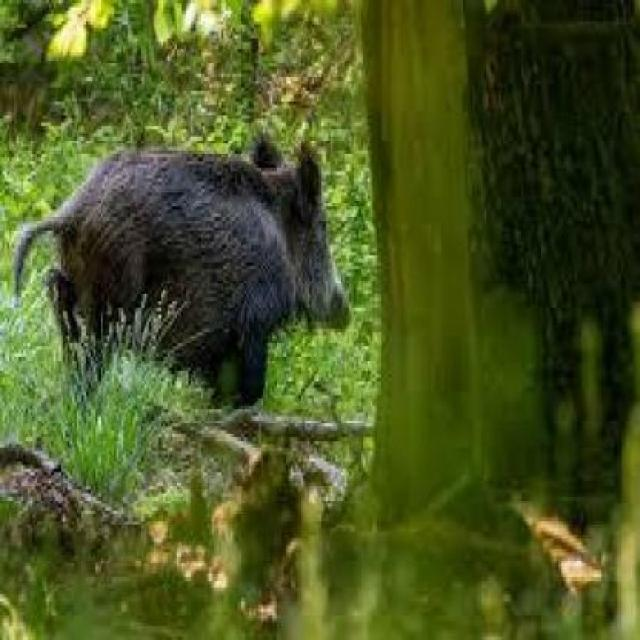wildboar: (0, 122, 351, 426)
